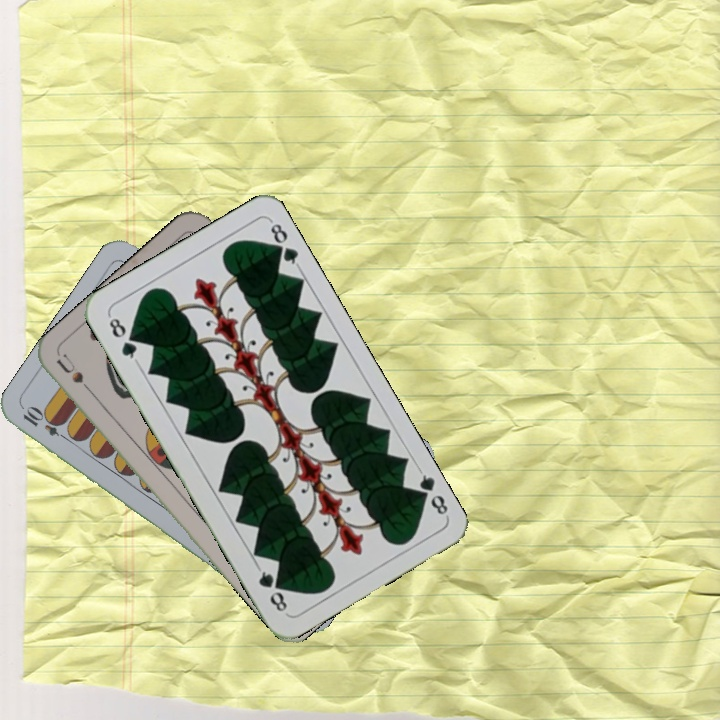E10: (18, 404, 74, 445)
G8: (410, 465, 452, 519), (104, 311, 141, 365)
SU: (53, 350, 100, 402)
